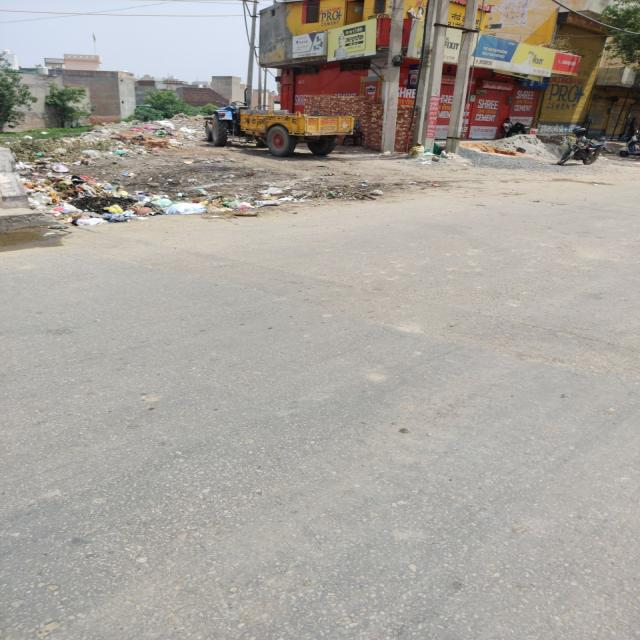Bike: (560, 133, 606, 168)
Tractor: (196, 93, 354, 160)
